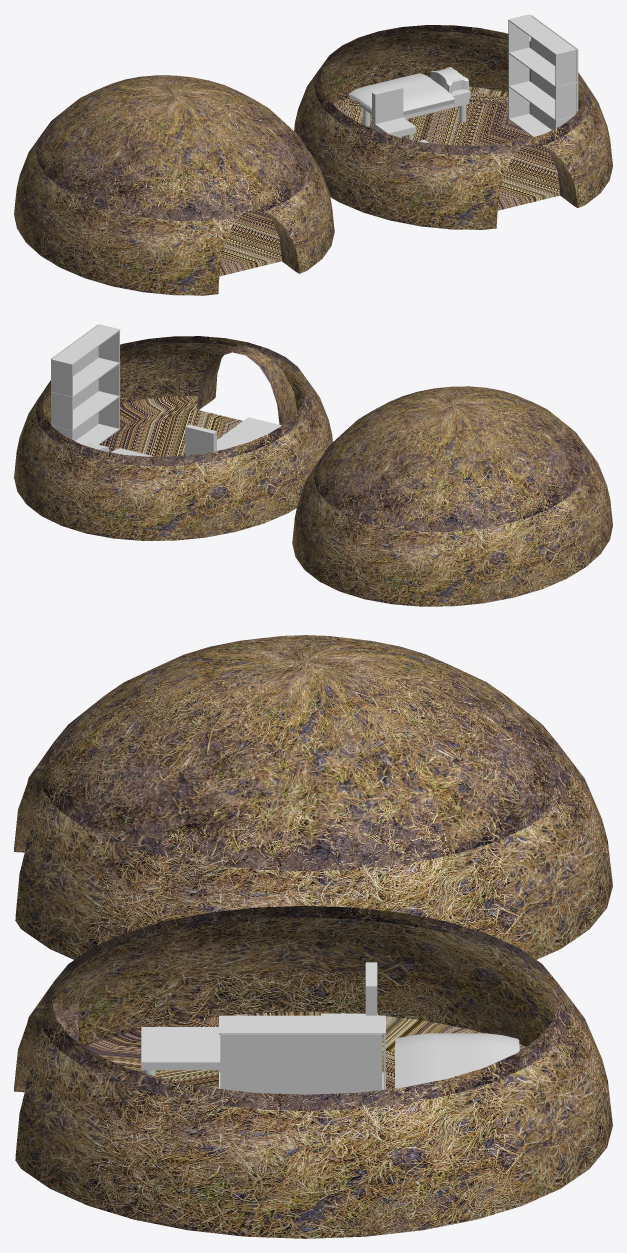
Rendered from madriguera_buena.fbx.
3 views of the same model, one above another, from view 1: azimuth 30°, elevation 25°; view 2: azimuth 150°, elevation 25°; view 3: azimuth 270°, elevation 25° (orthographic). The views are drawn at different scales.
Visible parts, largest first — view 1: Sphere001, Sphere002, Box006, Box012, Box013, Box014, Box011, Box003, Box010, Box009, Box007, Box002 (+1 smaller); view 2: Sphere001, Sphere002, Box012, Box013, Box014, Box011, Box001, Box010, Box003, Box009, Box008; view 3: Sphere001, Sphere002, Box014, Box006, Box001, Box011.
Boxes of the visible parts, box(x1,y1,x2,y2) form: Sphere001: box(14, 75, 334, 295); Sphere002: box(294, 25, 612, 229); Box006: box(348, 73, 454, 115); Box012: box(508, 20, 529, 119); Box013: box(555, 51, 576, 128); Box014: box(530, 15, 578, 129); Box011: box(508, 14, 576, 55); Box003: box(372, 85, 403, 124); Box010: box(509, 47, 576, 88); Box009: box(509, 81, 573, 121); Box007: box(430, 67, 468, 93); Box002: box(371, 117, 416, 137); Sphere001: box(292, 386, 612, 606); Sphere002: box(14, 336, 332, 540); Box012: box(51, 361, 72, 439); Box013: box(98, 331, 119, 430); Box014: box(51, 324, 98, 440); Box011: box(51, 324, 120, 365); Box001: box(217, 417, 281, 449); Box010: box(51, 357, 120, 397); Box003: box(185, 424, 216, 455); Box009: box(52, 391, 120, 431); Box008: box(75, 424, 120, 445); Sphere001: box(14, 635, 612, 959); Sphere002: box(14, 905, 612, 1238); Box014: box(220, 1033, 382, 1094); Box006: box(395, 1033, 519, 1088); Box001: box(141, 1027, 220, 1070); Box011: box(219, 1015, 385, 1034).
Size of the model in its own units: 172 by 39.71 by 94.18.
Materials: 1 (1 with a texture image).
